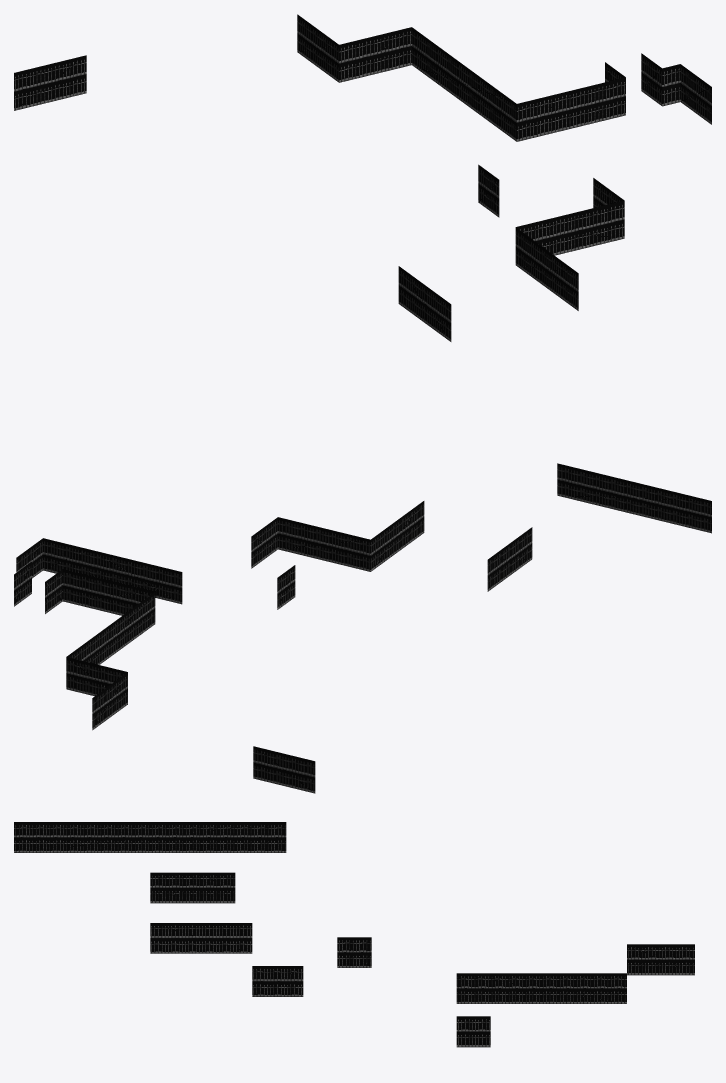
Rendered from Bars.obj.
3 renders of one model, top to bottom at view 1: azimuth 30°, elevation 25°; view 2: azimuth 150°, elevation 25°; view 3: azimuth 270°, elevation 25°, orthographic. The views are drawn at different scales.
Visible parts, largest first — view 1: BARS; view 2: BARS; view 3: BARS.
Boxes of the visible parts, x1,y1,x2,y2 form: BARS: (14, 14, 711, 341); BARS: (14, 463, 711, 793); BARS: (14, 822, 694, 1047).
Bounding box in the file's own units: 30 × 2 × 41.
1 material, 1 textured.
